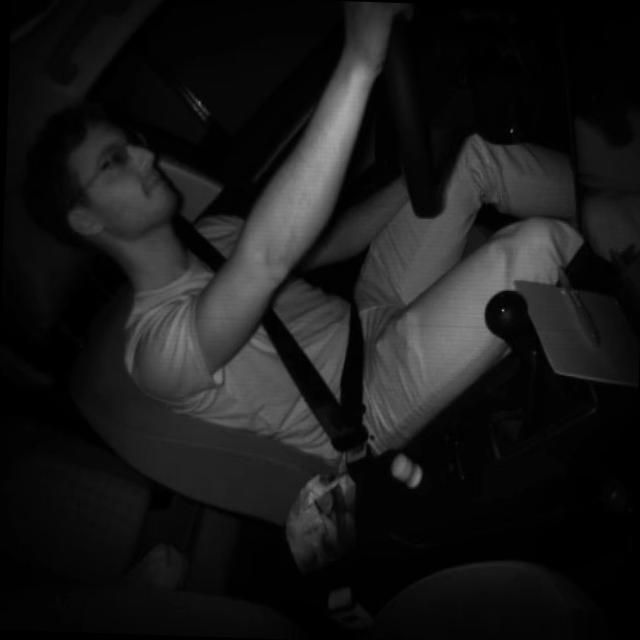pen: (552, 262, 608, 356)
